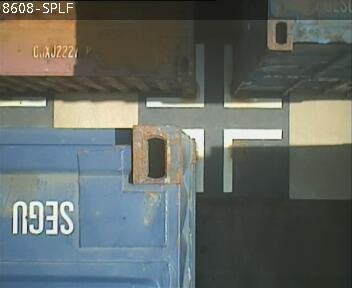groundmarker_1: (146, 44, 282, 107), (183, 128, 281, 191)
